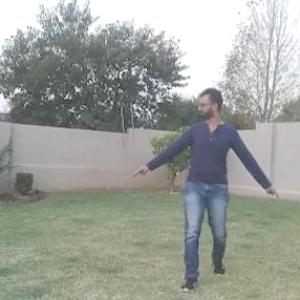land: (130, 85, 289, 294)
